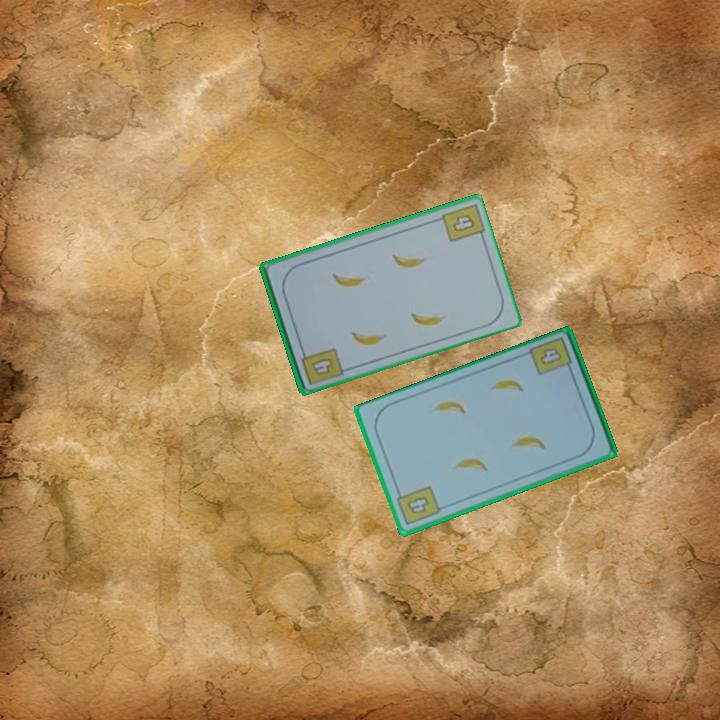4b: (393, 482, 443, 528), (526, 334, 576, 378), (297, 344, 346, 388), (449, 210, 478, 235)
